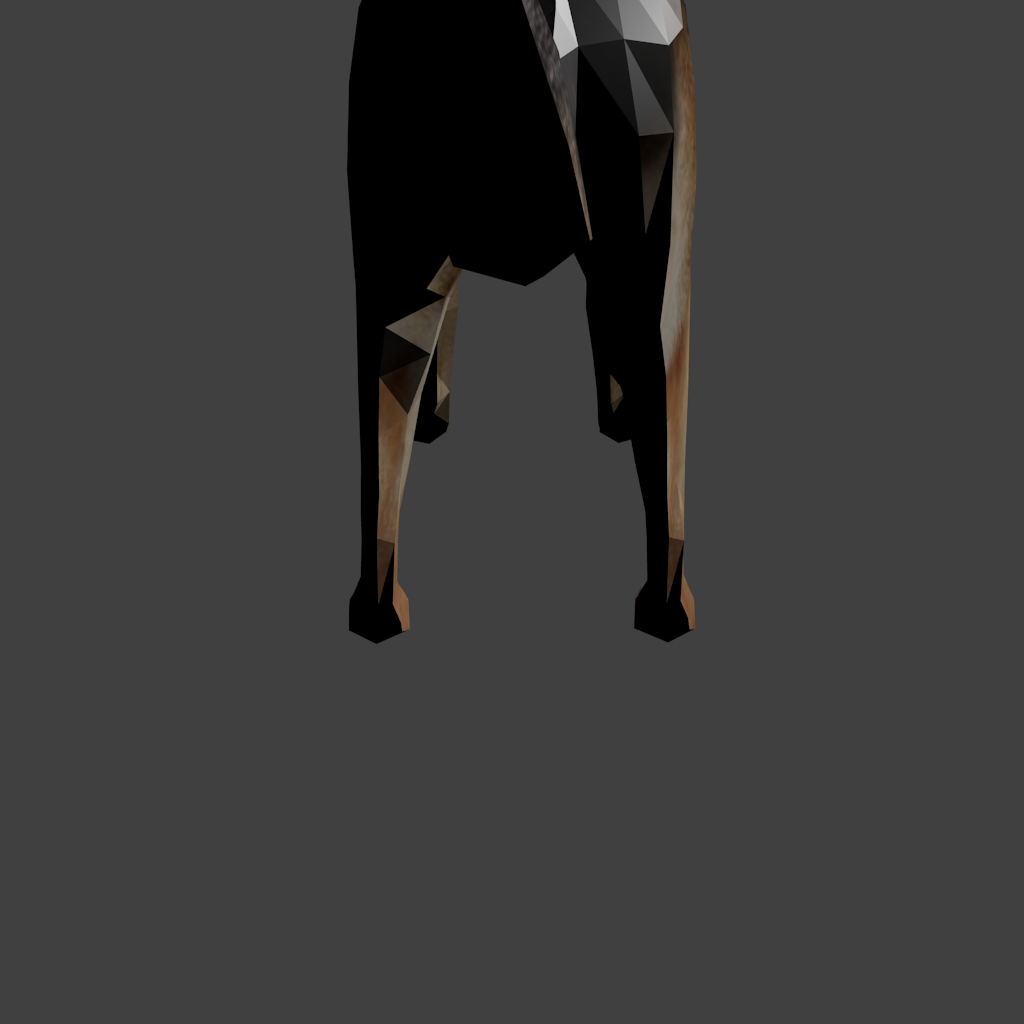Dog: (347, 0, 350, 644)
